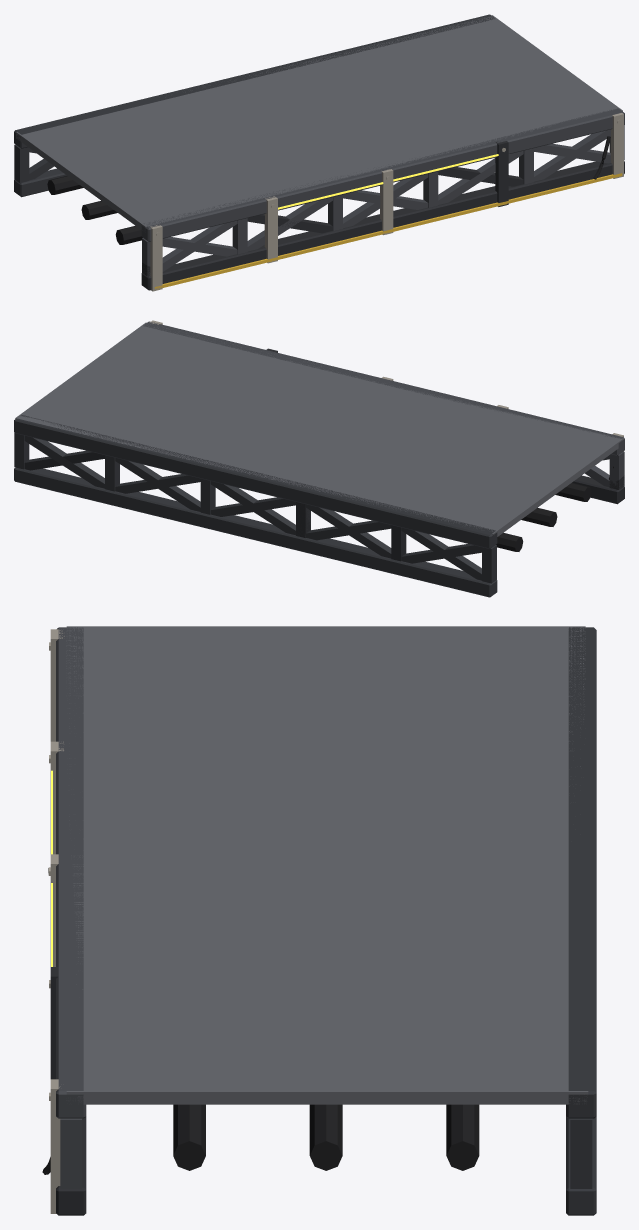
Rendered from nvg_cmp_cable_bridge_b.glb.
3 renders of one model, top to bottom at view 1: azimuth 30°, elevation 25°; view 2: azimuth 150°, elevation 25°; view 3: azimuth 270°, elevation 25°, orthographic. The views are drawn at different scales.
Parts seen in each view (by area): view 1: mesh_heavy, mesh_intact, mesh_light; view 2: mesh_heavy, mesh_intact, mesh_light; view 3: mesh_heavy, mesh_light, mesh_intact.
Part boxes in pixels (x1,y1,x2,y2): mesh_heavy: (14, 14, 624, 291); mesh_intact: (16, 16, 624, 289); mesh_light: (18, 15, 621, 256); mesh_heavy: (14, 320, 624, 597); mesh_intact: (16, 322, 624, 536); mesh_light: (14, 324, 492, 563); mesh_heavy: (42, 626, 596, 1215); mesh_light: (48, 627, 596, 1213); mesh_intact: (49, 626, 585, 1118).
Size of the model in its own units: 2.4 by 0.3 by 1.21.
